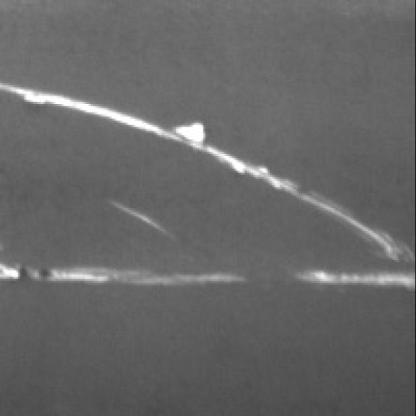scratches: (6, 77, 414, 256), (4, 252, 231, 289), (302, 263, 416, 291)
